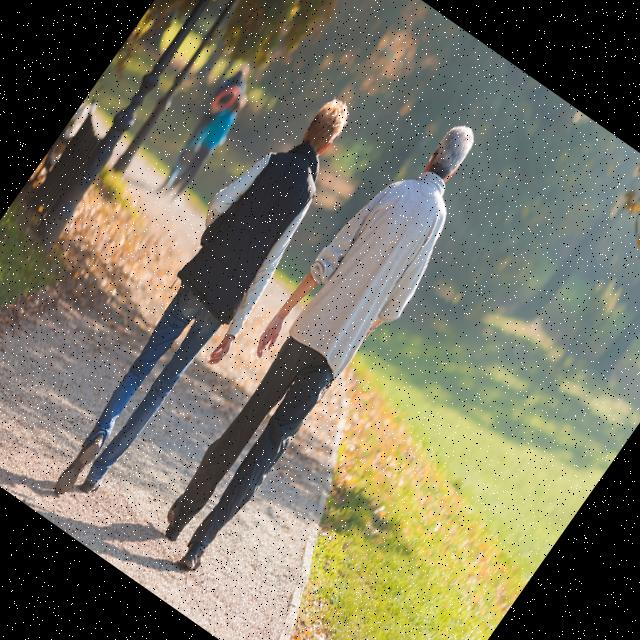Person: (128, 97, 511, 583), (20, 72, 382, 529), (161, 88, 252, 204)
